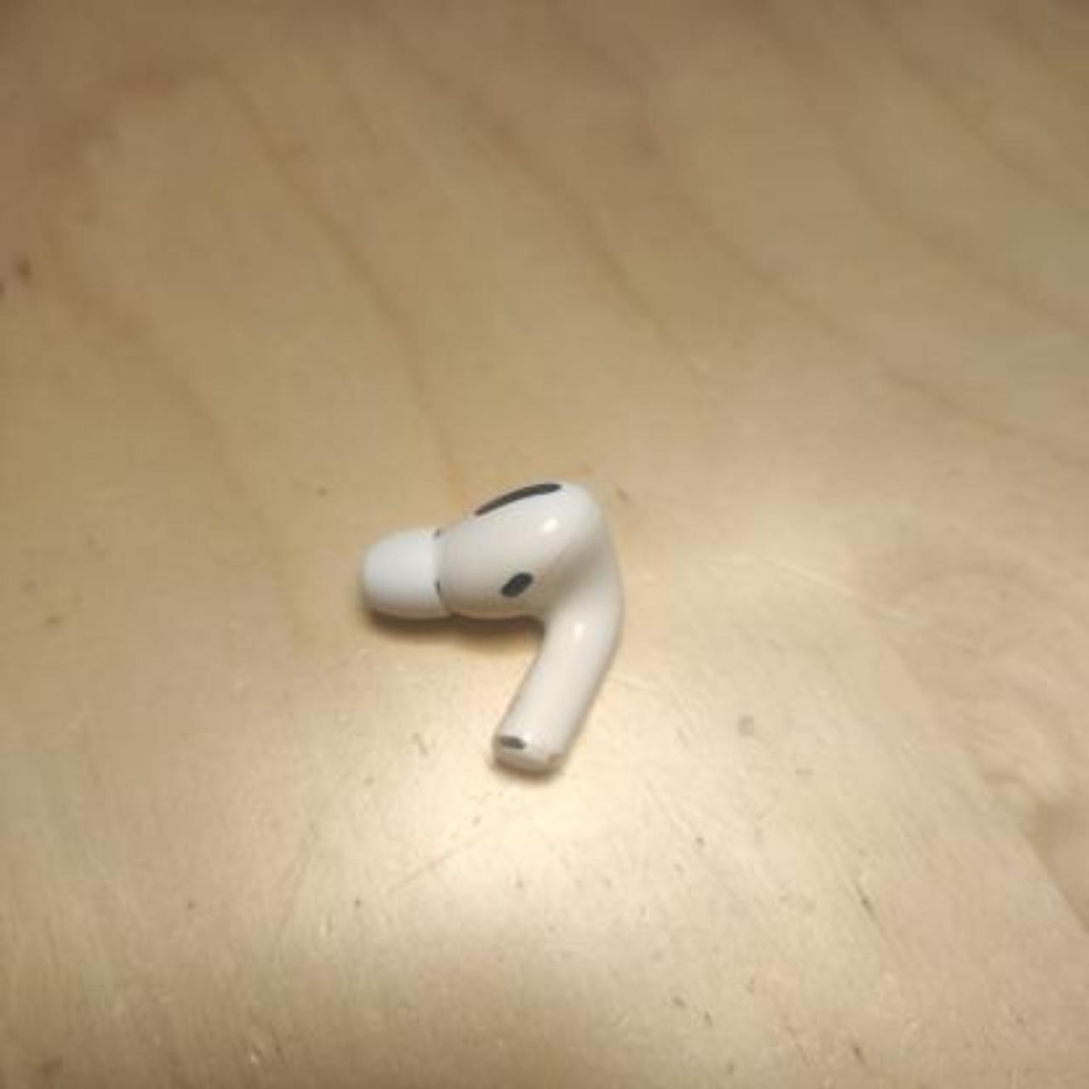Airpods_Units: (359, 483, 625, 763)
